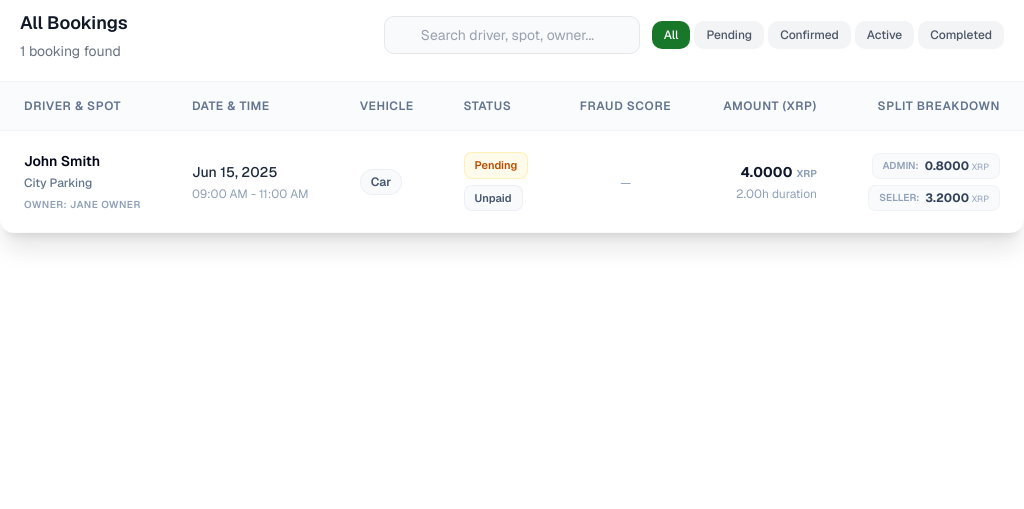
Scenario: BookingTable Component › Expanded Row Details › shows driver email in expanded view
The width and height of the screenshot is (1024, 509).
Step 1. Click the text "John Smith" → (62, 161), box [24, 152, 100, 170]
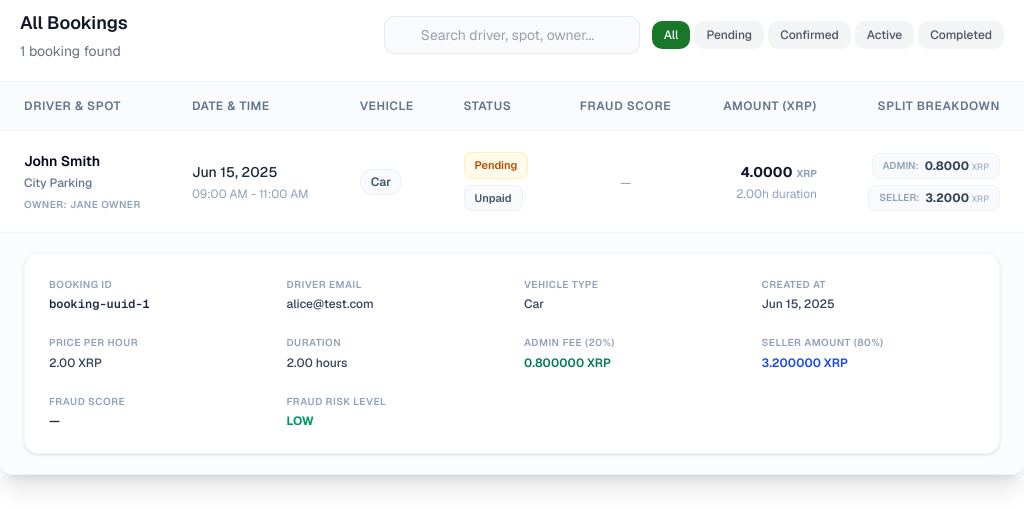
Result: the text "alice@test.com" is shown at [286, 296, 374, 312]
